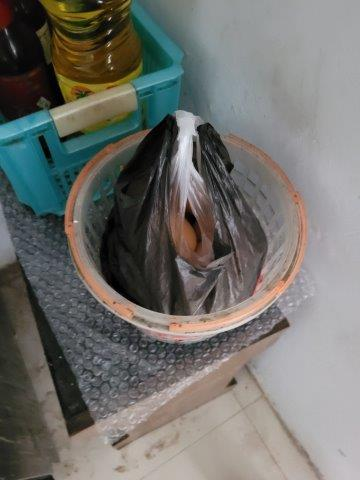plastik: (96, 112, 274, 315)
